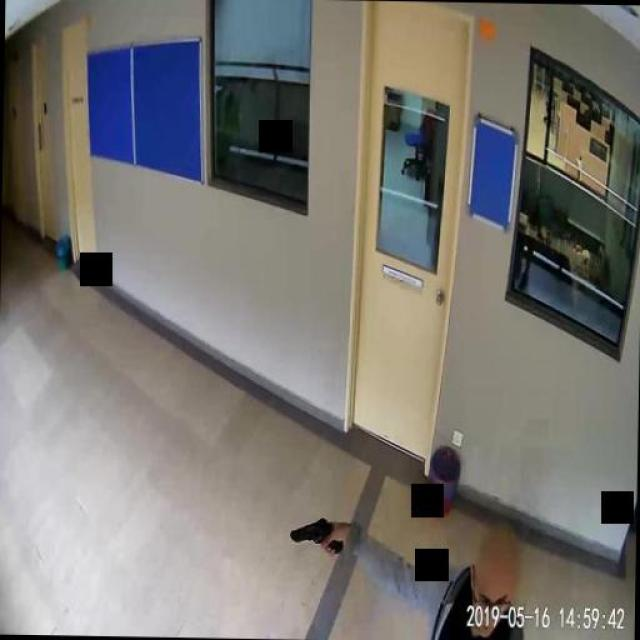gun: (288, 515, 342, 556)
